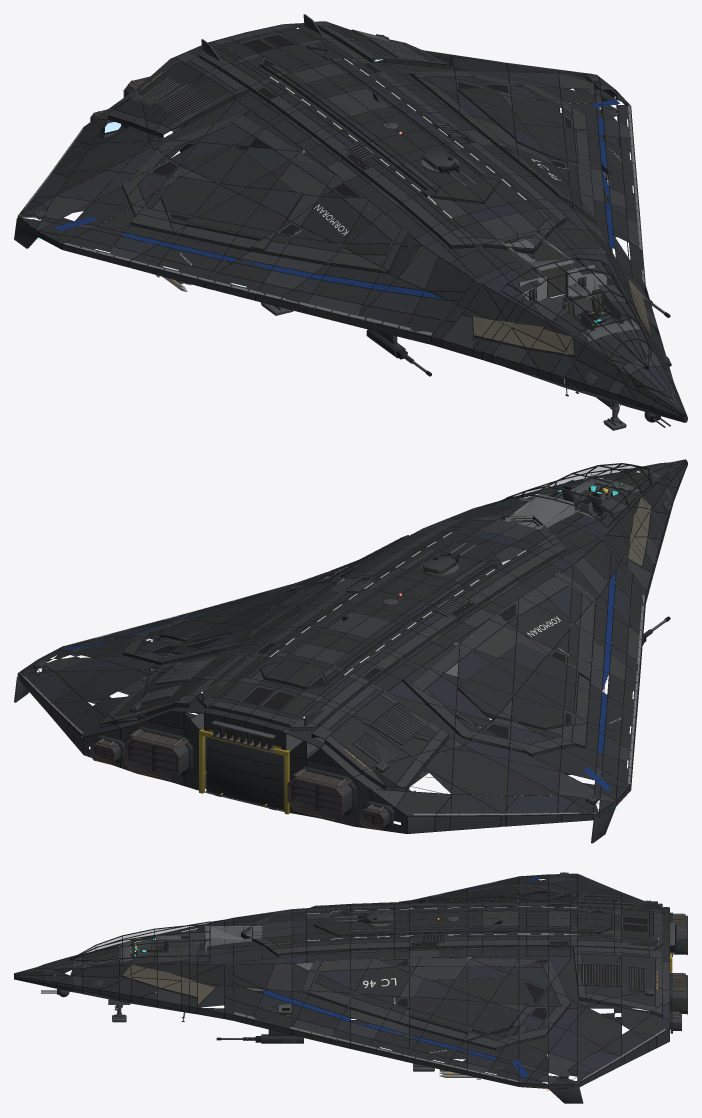
Rendered from Kormoran.054ab7c465.glb.
3 renders of one model, top to bottom at view 1: azimuth 30°, elevation 25°; view 2: azimuth 150°, elevation 25°; view 3: azimuth 270°, elevation 25°, orthographic. The views are drawn at different scales.
Parts seen in each view (by area): view 1: Hitzekragen.004, Duesenblock.008, Klappenfuge.104, Rumpf.003, Antenne.003, Abwurfschiene.002, Akzentbalken.004, Innendetail Wand.001, Kantenleiste.060, Deckenkonsole.001, Beschriftung.013, Armlehnenpolster.004; view 2: Hitzekragen.004, Duesenblock.008, Klappenfuge.104, Rumpf.003, Antenne.003, Rampe Aussenhaut.001, Abwurfschiene.002, Duesenrand.004, Akzentbalken.004, Kantenleiste.060, Gangdecke.001, Bodenrand.002 (+2 smaller); view 3: Hitzekragen.004, Duesenblock.008, Klappenfuge.104, Rumpf.003, Antenne.003, Abwurfschiene.002, Akzentbalken.004, Deckenkonsole.001, Kantenleiste.060, Duesenrand.004, Innendetail Wand.001, Beschriftung.013 (+5 smaller).
Boxes of the visible parts, bbox=[...] form: Hitzekragen.004: bbox=[18, 23, 687, 422]; Duesenblock.008: bbox=[14, 14, 684, 422]; Klappenfuge.104: bbox=[18, 21, 687, 422]; Rumpf.003: bbox=[31, 27, 683, 422]; Antenne.003: bbox=[34, 34, 670, 421]; Abwurfschiene.002: bbox=[97, 30, 670, 427]; Akzentbalken.004: bbox=[55, 99, 620, 299]; Innendetail Wand.001: bbox=[302, 149, 606, 301]; Kantenleiste.060: bbox=[19, 50, 644, 335]; Deckenkonsole.001: bbox=[568, 278, 639, 341]; Beschriftung.013: bbox=[180, 58, 621, 265]; Armlehnenpolster.004: bbox=[529, 276, 609, 322]; Hitzekragen.004: bbox=[19, 460, 687, 828]; Duesenblock.008: bbox=[14, 460, 687, 843]; Klappenfuge.104: bbox=[18, 459, 687, 833]; Rumpf.003: bbox=[31, 463, 674, 833]; Antenne.003: bbox=[35, 463, 670, 826]; Rampe Aussenhaut.001: bbox=[207, 737, 283, 808]; Abwurfschiene.002: bbox=[97, 542, 666, 812]; Duesenrand.004: bbox=[35, 503, 669, 830]; Akzentbalken.004: bbox=[64, 571, 615, 790]; Kantenleiste.060: bbox=[19, 594, 644, 815]; Gangdecke.001: bbox=[445, 494, 574, 676]; Bodenrand.002: bbox=[199, 573, 580, 814]; Hitzekragen.004: bbox=[14, 873, 672, 1084]; Duesenblock.008: bbox=[14, 872, 686, 1103]; Klappenfuge.104: bbox=[14, 873, 669, 1088]; Rumpf.003: bbox=[15, 877, 669, 1082]; Antenne.003: bbox=[57, 872, 676, 1078]; Abwurfschiene.002: bbox=[41, 894, 685, 1071]; Akzentbalken.004: bbox=[263, 876, 541, 1077]; Deckenkonsole.001: bbox=[119, 928, 204, 962]; Kantenleiste.060: bbox=[234, 873, 665, 1083]; Duesenrand.004: bbox=[93, 872, 687, 1078]; Innendetail Wand.001: bbox=[206, 927, 261, 990]; Beschriftung.013: bbox=[307, 895, 577, 1052].
Size of the model in its own units: 34.02 by 7.96 by 46.04.
